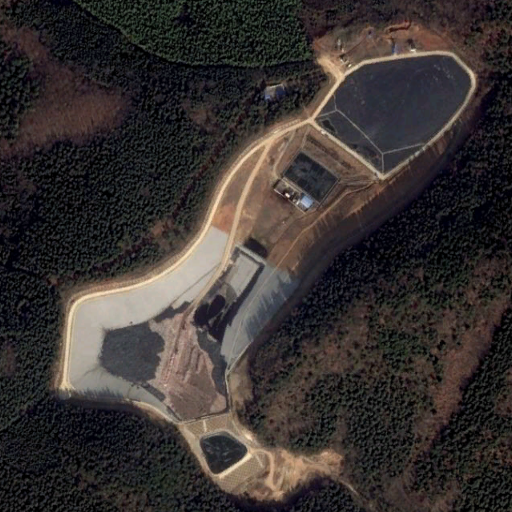lf: (62, 53, 477, 422)
